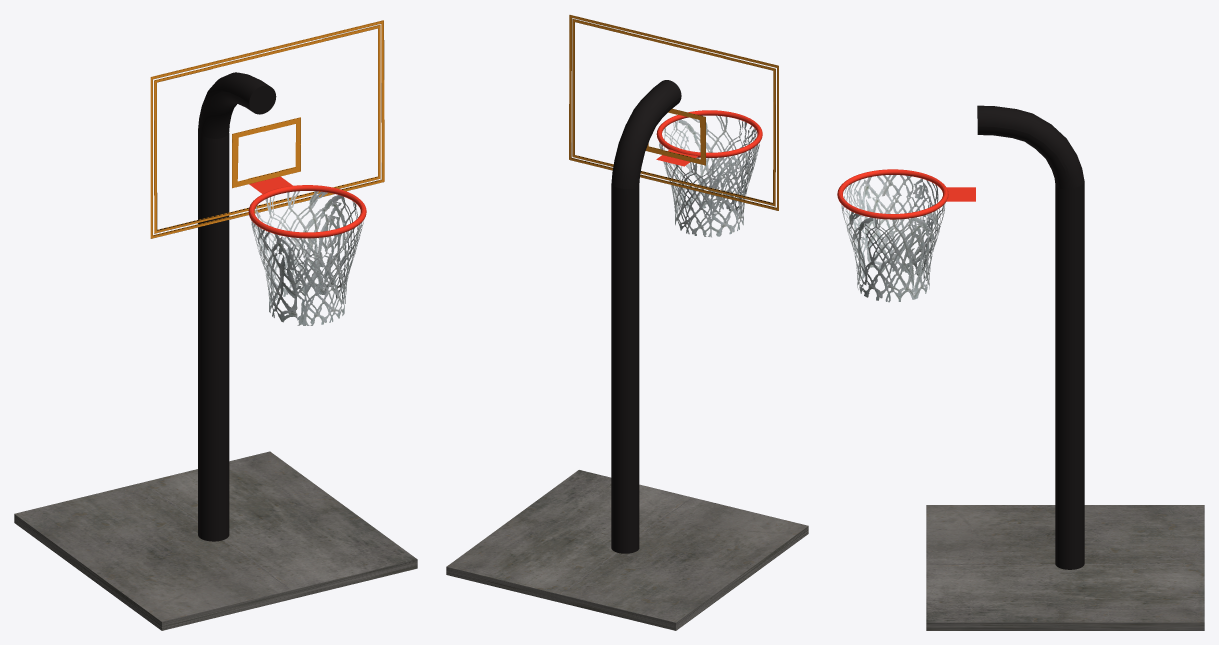
File: basketball_goal.glb
3 views of the same model, side by side, from view 1: azimuth 30°, elevation 25°; view 2: azimuth 150°, elevation 25°; view 3: azimuth 270°, elevation 25° (orthographic). The views are drawn at different scales.
Parts seen in each view (by area): view 1: concrete_base.model, pole.model, net.model, backboard.model, rim.model; view 2: concrete_base.model, pole.model, net.model, backboard.model, rim.model; view 3: concrete_base.model, pole.model, net.model, rim.model.
Boxes of the visible parts, x1,y1,x2,y2 form: concrete_base.model: (14,451,417,630); pole.model: (198,72,276,541); net.model: (251,191,363,325); backboard.model: (150,20,384,238); rim.model: (248,185,366,238); concrete_base.model: (446,470,808,630); pole.model: (611,80,681,553); net.model: (659,115,759,237); backboard.model: (569,15,778,210); rim.model: (656,110,762,157); concrete_base.model: (926,505,1204,630); pole.model: (977,105,1084,569); net.model: (841,175,945,302); rim.model: (837,169,948,219).
Bounding box in the file's own units: 2 × 4 × 2.64.
Materials: 3 (3 with a texture image).
